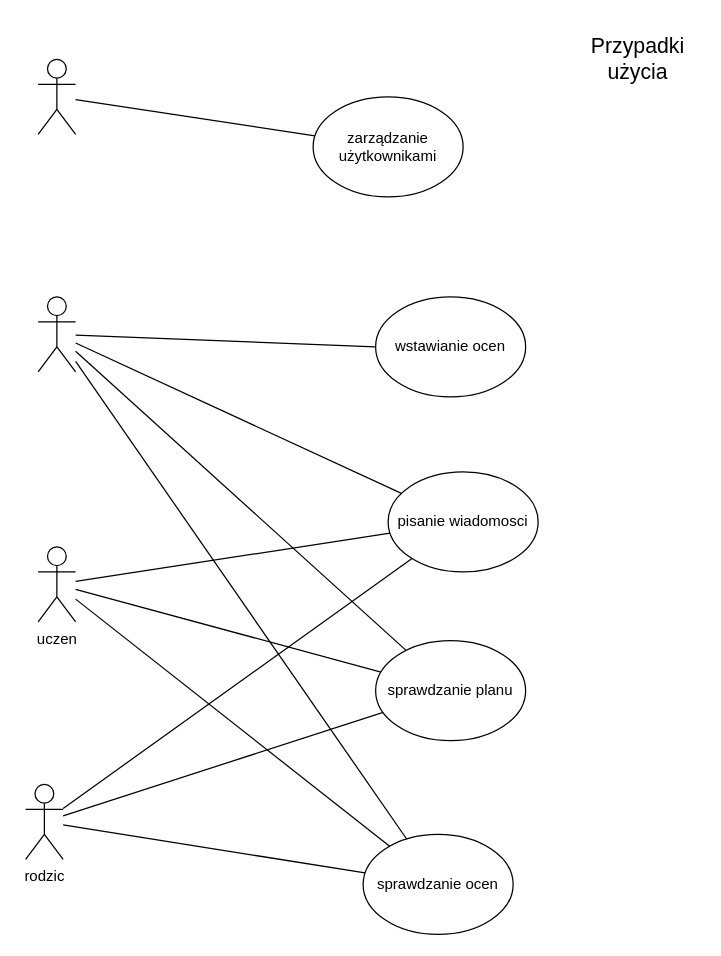
Image size: 721x956. Some labels were removed from this diagram. The box of each missing label's shape, as (x1, y1, x2, y2) in pixels:
admin: (37, 58, 76, 134)
nauczyciel: (37, 296, 76, 372)
